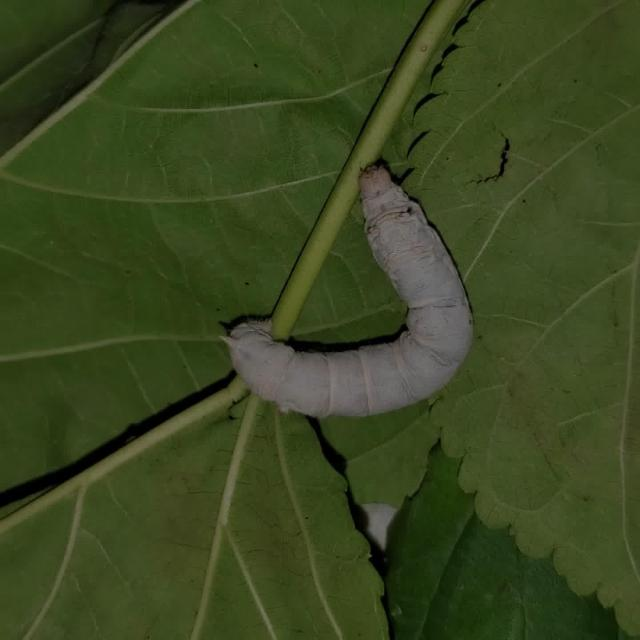Healthy: (218, 160, 484, 433)
